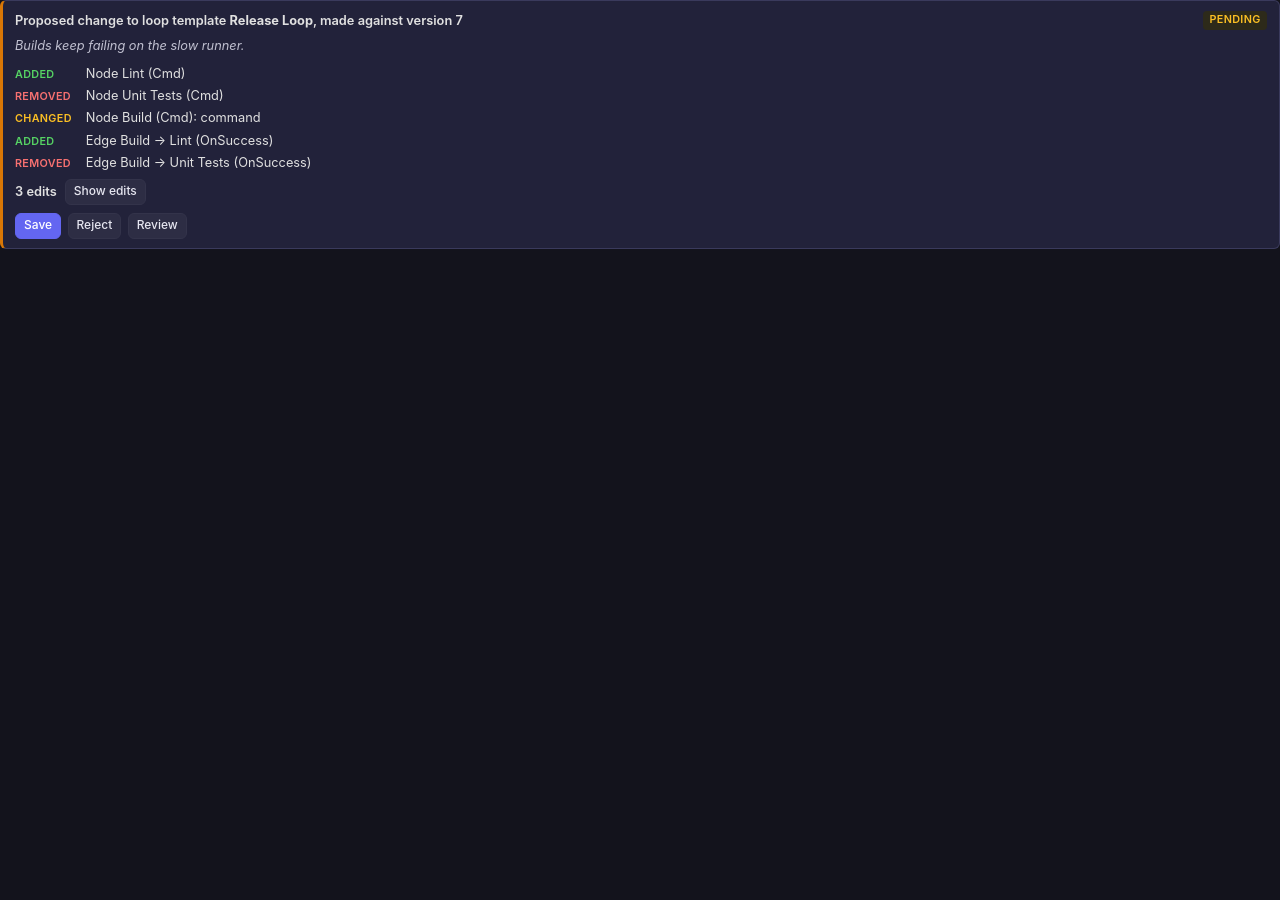
Test: LoopTemplateProposalCard for an Edit List proposal › names a node by its label in the resulting document when that is loaded, and by its id when it is not in it
Click the button "Show edits" at point(105, 192), box [65,179,146,205]
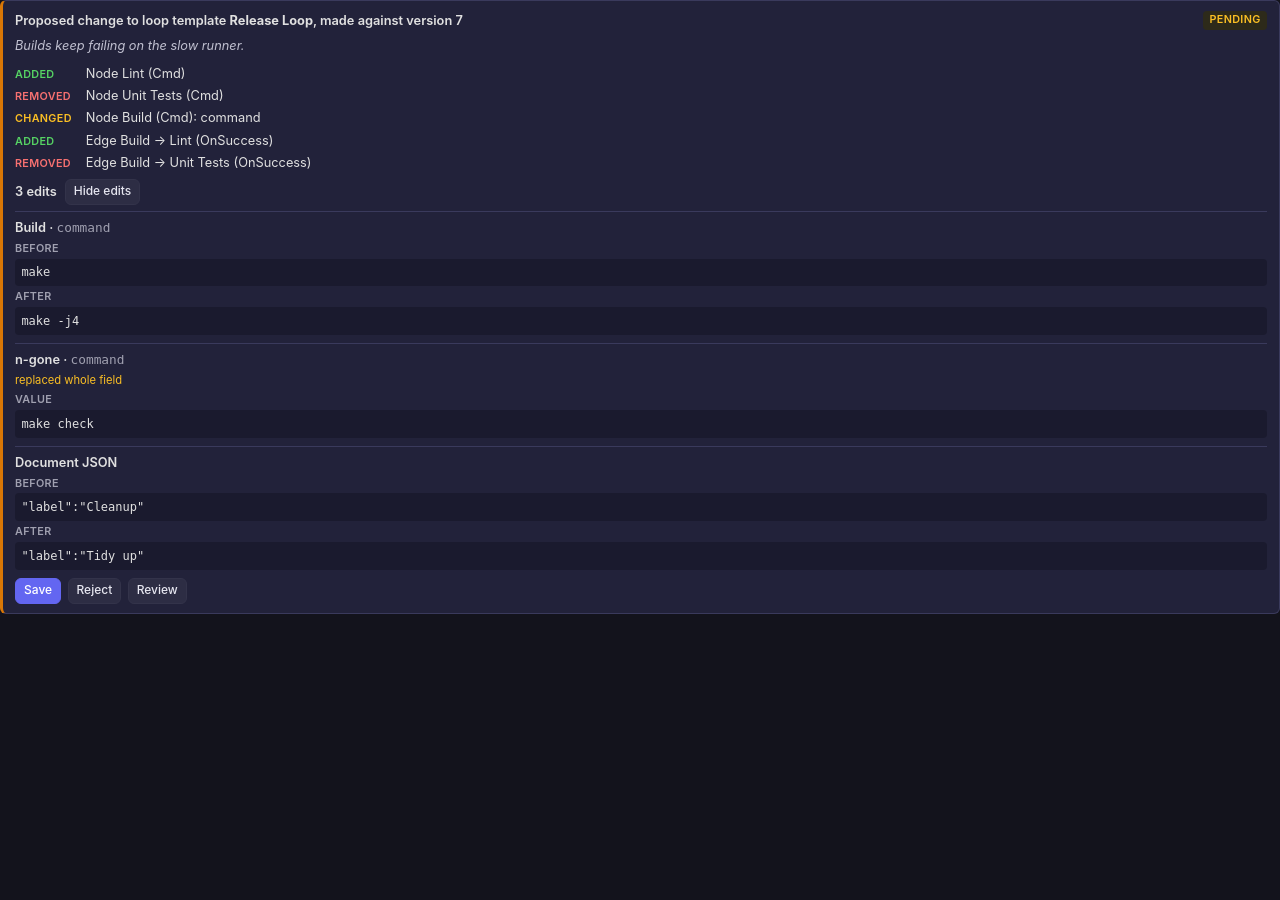
Result: the text "Build" is shown at [15,220,46,235]
Result: the text "n-gone" is shown at [15,352,60,367]
